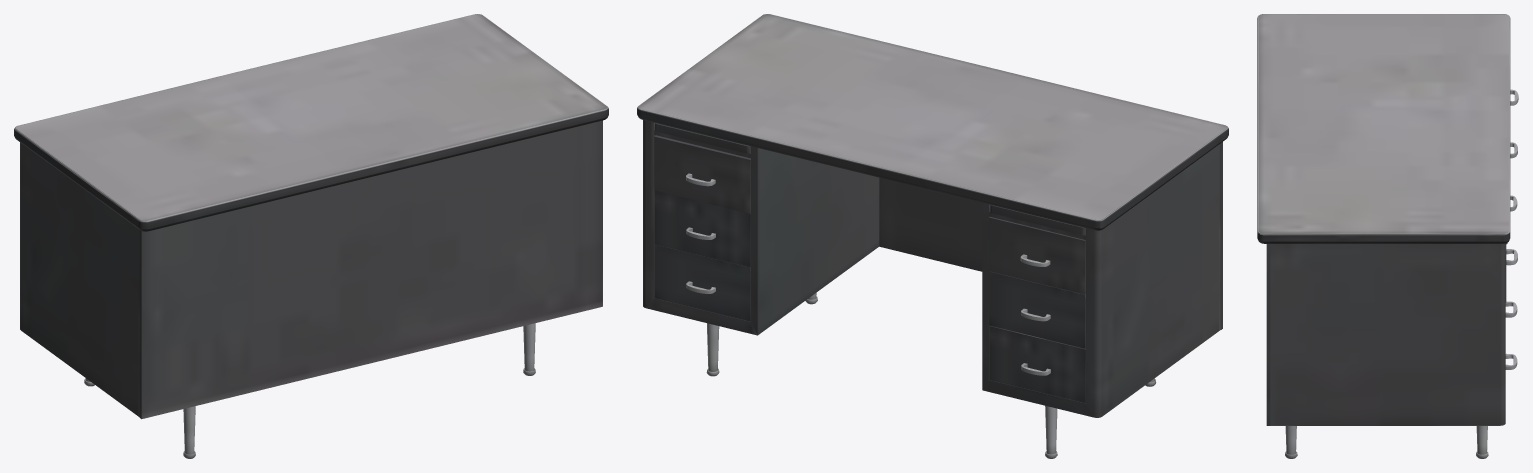
The model's file is office-desk.glb.
The picture shows the model from 3 angles, left to right: view 1: azimuth 30°, elevation 25°; view 2: azimuth 150°, elevation 25°; view 3: azimuth 270°, elevation 25°; orthographic projection. The views are drawn at different scales.
Parts seen in each view (by area): view 1: metal_office_desk; view 2: metal_office_desk; view 3: metal_office_desk.
Boxes of the visible parts, x1,y1,x2,y2 form: metal_office_desk: (14,14,608,458); metal_office_desk: (637,14,1228,458); metal_office_desk: (1257,14,1518,458).
Bounding box in the file's own units: 1.4 × 0.75 × 0.7001.
1 material, 1 textured.
